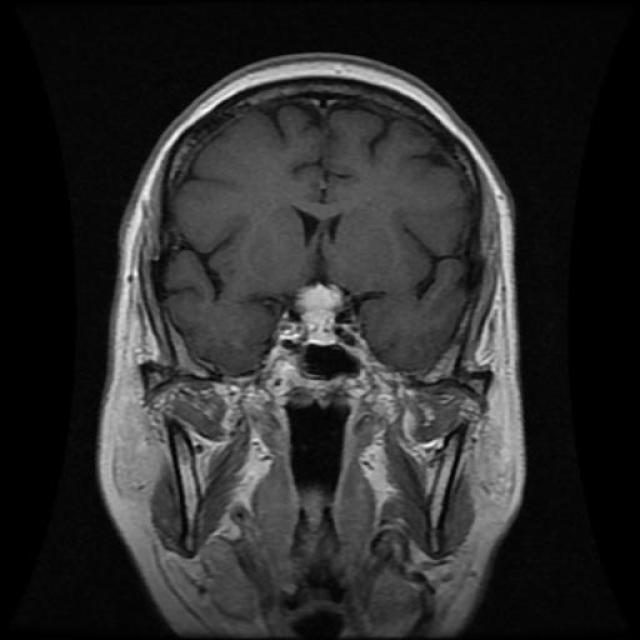brain_tumor: (292, 279, 351, 350)
